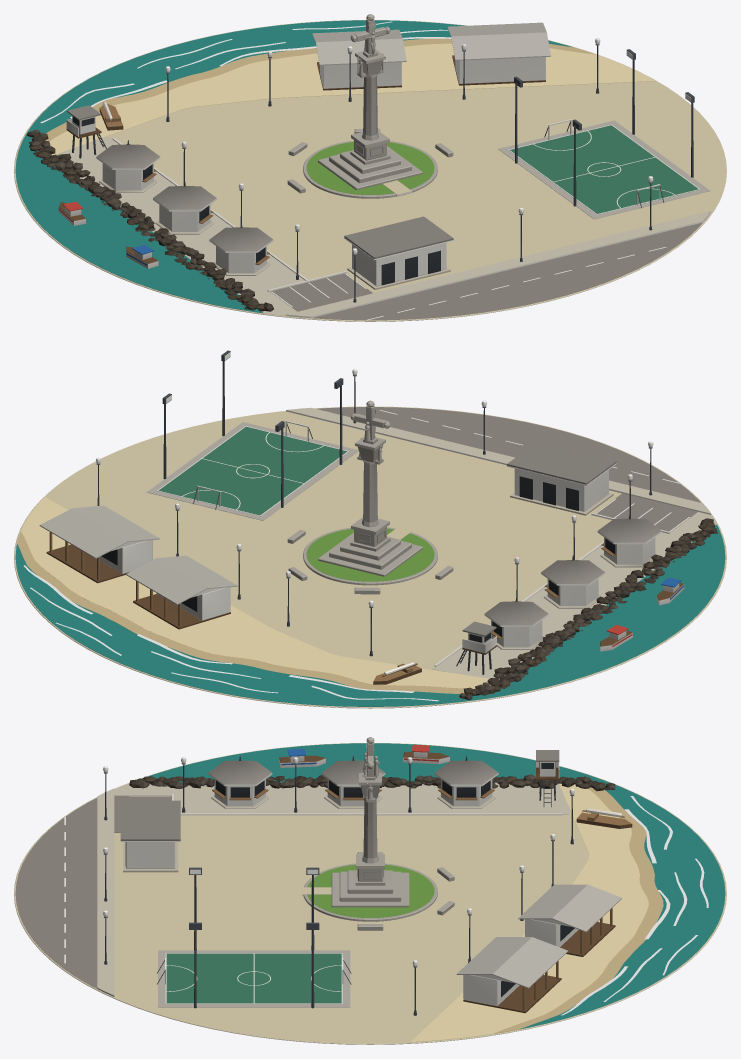
File: marcoZero-pecas.glb
3 renders of one model, top to bottom at view 1: azimuth 30°, elevation 25°; view 2: azimuth 150°, elevation 25°; view 3: azimuth 270°, elevation 25°, orthographic.
Visible parts, largest first — view 1: Chao_Pisos, Chao_Base, Barracas, Quiosques, Mercado_Vila_do_Mar, Cruzeiro, Enrocamento, Mobiliario, Barcos, Mar_Espuma, Torre_Salvamento; view 2: Chao_Pisos, Chao_Base, Barracas, Quiosques, Mercado_Vila_do_Mar, Cruzeiro, Enrocamento, Mobiliario, Mar_Espuma, Barcos, Torre_Salvamento; view 3: Chao_Pisos, Chao_Base, Barracas, Quiosques, Cruzeiro, Mercado_Vila_do_Mar, Mobiliario, Enrocamento, Barcos, Mar_Espuma, Torre_Salvamento.
Boxes of the visible parts, x1=… form: Chao_Pisos: x1=15, y1=20, x2=710, y2=320; Chao_Base: x1=14, y1=20, x2=726, y2=321; Barracas: x1=312, y1=22, x2=550, y2=90; Quiosques: x1=96, y1=140, x2=273, y2=275; Mercado_Vila_do_Mar: x1=344, y1=216, x2=453, y2=289; Cruzeiro: x1=318, y1=14, x2=422, y2=189; Enrocamento: x1=27, y1=129, x2=273, y2=311; Mobiliario: x1=165, y1=38, x2=694, y2=302; Barcos: x1=58, y1=101, x2=158, y2=268; Mar_Espuma: x1=40, y1=21, x2=451, y2=123; Torre_Salvamento: x1=66, y1=105, x2=106, y2=158; Chao_Pisos: x1=15, y1=407, x2=725, y2=706; Chao_Base: x1=14, y1=406, x2=726, y2=708; Barracas: x1=39, y1=505, x2=237, y2=629; Quiosques: x1=484, y1=514, x2=661, y2=649; Mercado_Vila_do_Mar: x1=506, y1=442, x2=616, y2=515; Cruzeiro: x1=318, y1=400, x2=422, y2=576; Enrocamento: x1=459, y1=518, x2=718, y2=700; Mobiliario: x1=96, y1=350, x2=653, y2=656; Mar_Espuma: x1=24, y1=565, x2=438, y2=701; Barcos: x1=373, y1=577, x2=684, y2=684; Torre_Salvamento: x1=456, y1=621, x2=496, y2=674; Chao_Pisos: x1=15, y1=743, x2=725, y2=1042; Chao_Base: x1=14, y1=743, x2=726, y2=1044; Barracas: x1=456, y1=884, x2=621, y2=1013; Quiosques: x1=208, y1=756, x2=498, y2=808; Cruzeiro: x1=331, y1=737, x2=409, y2=907; Mercado_Vila_do_Mar: x1=120, y1=800, x2=180, y2=872; Mobiliario: x1=103, y1=757, x2=574, y2=1015; Enrocamento: x1=129, y1=774, x2=615, y2=791; Barcos: x1=279, y1=744, x2=632, y2=828; Mar_Espuma: x1=561, y1=796, x2=708, y2=1015; Torre_Salvamento: x1=536, y1=750, x2=559, y2=807.
Bounding box in the file's own units: 66.8 × 16.23 × 66.8.
